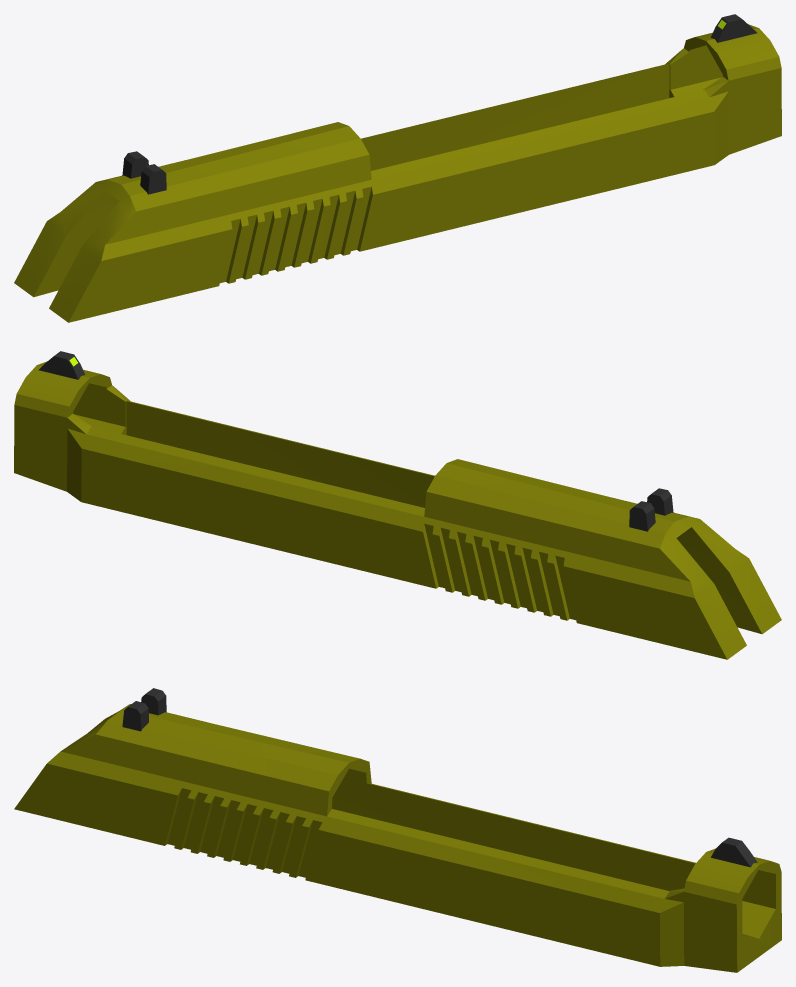
The model's file is Pistol1_04_2.fbx.
3 views of the same model, one above another, from view 1: azimuth 30°, elevation 25°; view 2: azimuth 150°, elevation 25°; view 3: azimuth 330°, elevation 25° (orthographic).
Visible parts, largest first — view 1: Pistol1_04_2; view 2: Pistol1_04_2; view 3: Pistol1_04_2.
Part boxes in pixels (x1,y1,x2,y2): Pistol1_04_2: (14, 14, 781, 322); Pistol1_04_2: (14, 351, 781, 659); Pistol1_04_2: (14, 688, 781, 972).
Bounding box in the file's own units: 0.2348 × 0.0363 × 0.0308.
